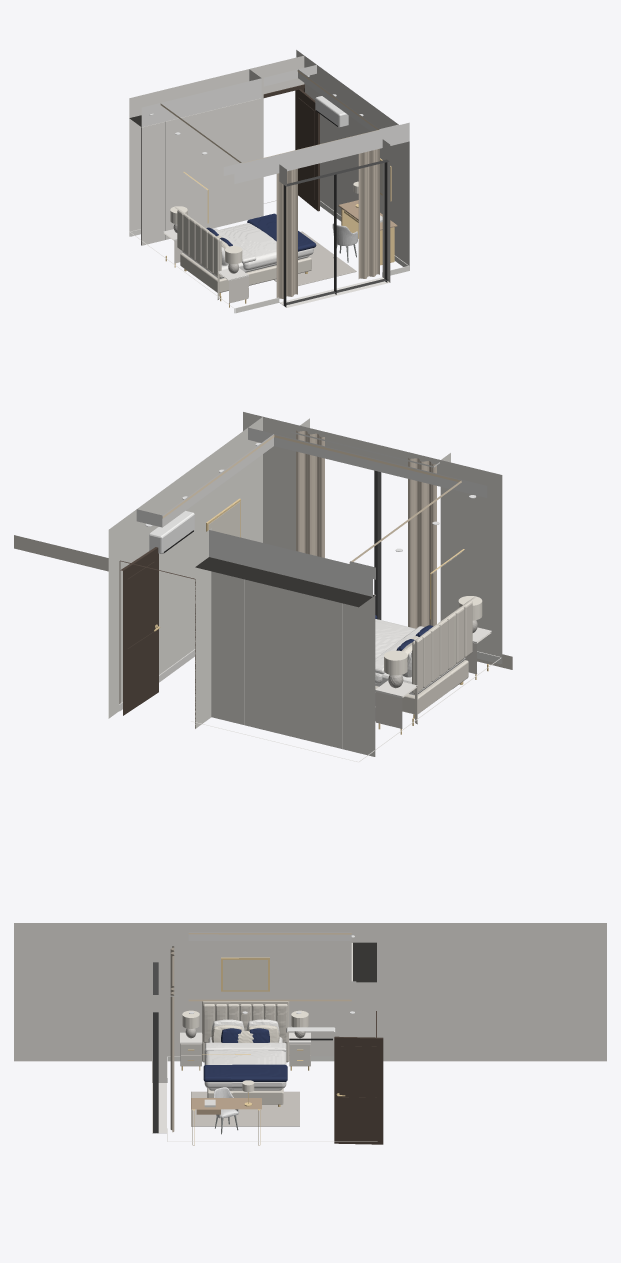
The model's file is ROOM4.glb.
3 renders of one model, top to bottom at view 1: azimuth 30°, elevation 25°; view 2: azimuth 150°, elevation 25°; view 3: azimuth 270°, elevation 25°, orthographic. The views are drawn at different scales.
Visible parts, largest first — view 1: WEB_ROOM4; view 2: WEB_ROOM4; view 3: WEB_ROOM4.
Boxes of the visible parts, x1=… form: WEB_ROOM4: x1=129, y1=50, x2=409, y2=313; WEB_ROOM4: x1=14, y1=412, x2=512, y2=762; WEB_ROOM4: x1=14, y1=923, x2=606, y2=1145.
Size of the model in its own units: 7.73 by 3.2 by 10.88.
